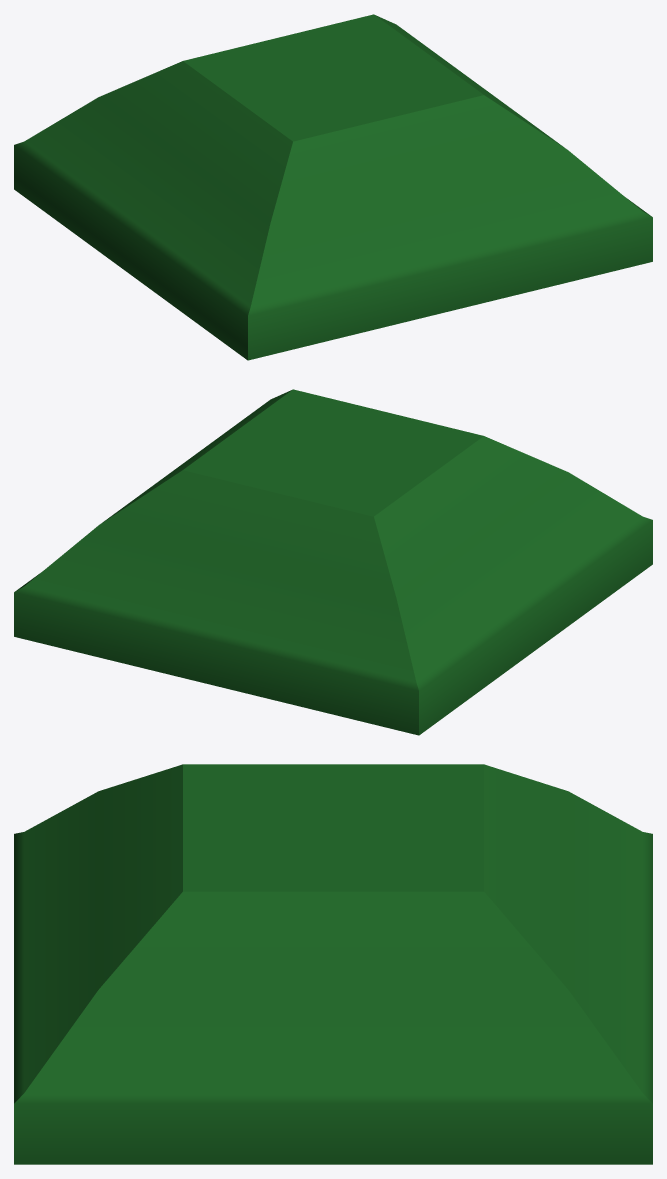
The model's file is MOD_solherbebute.FBX.
3 views of the same model, one above another, from view 1: azimuth 30°, elevation 25°; view 2: azimuth 150°, elevation 25°; view 3: azimuth 270°, elevation 25° (orthographic). The views are drawn at different scales.
Parts seen in each view (by area): view 1: MOD_terrainherbeE; view 2: MOD_terrainherbeE; view 3: MOD_terrainherbeE.
Boxes of the visible parts, x1=… form: MOD_terrainherbeE: x1=14, y1=14, x2=652, y2=360; MOD_terrainherbeE: x1=14, y1=389, x2=652, y2=735; MOD_terrainherbeE: x1=14, y1=764, x2=652, y2=1164.
Size of the model in its own units: 1 by 0.3481 by 1.
